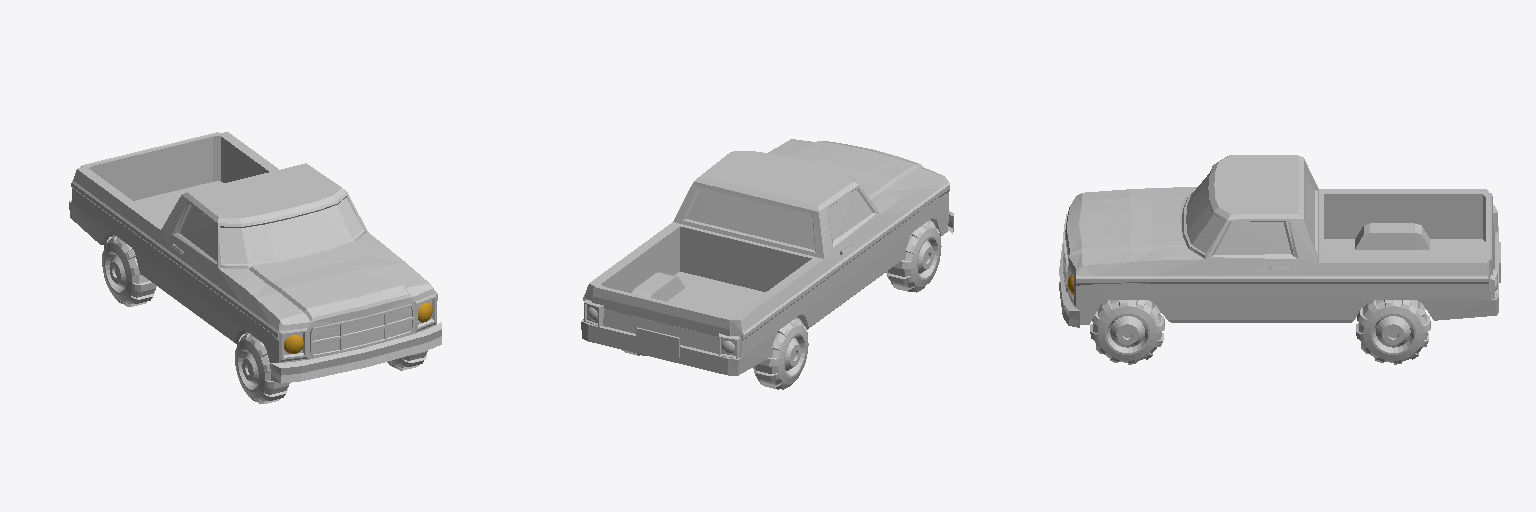
The model's file is Vehicle_Pickup.obj.
3 renders of one model, left to right at view 1: azimuth 30°, elevation 25°; view 2: azimuth 150°, elevation 25°; view 3: azimuth 270°, elevation 25°, orthographic.
Visible parts, largest first — view 1: Pickup_Cube.003, BackWheels_Cylinder.002, FrontWheel_R_Cylinder.001; view 2: Pickup_Cube.003, BackWheels_Cylinder.002, FrontWheel_R_Cylinder.001; view 3: Pickup_Cube.003, BackWheels_Cylinder.002, FrontWheel_L_Cylinder.003.
Part boxes in pixels (x1,y1,x2,y2): Pickup_Cube.003: (69,132,441,383); BackWheels_Cylinder.002: (102,235,156,306); FrontWheel_R_Cylinder.001: (235,332,289,403); Pickup_Cube.003: (581,139,953,375); BackWheels_Cylinder.002: (622,318,808,389); FrontWheel_R_Cylinder.001: (886,220,941,292); Pickup_Cube.003: (1059,155,1500,327); BackWheels_Cylinder.002: (1356,300,1430,364); FrontWheel_L_Cylinder.003: (1090,300,1164,364).
Size of the model in its own units: 2.31 by 1.85 by 5.18.